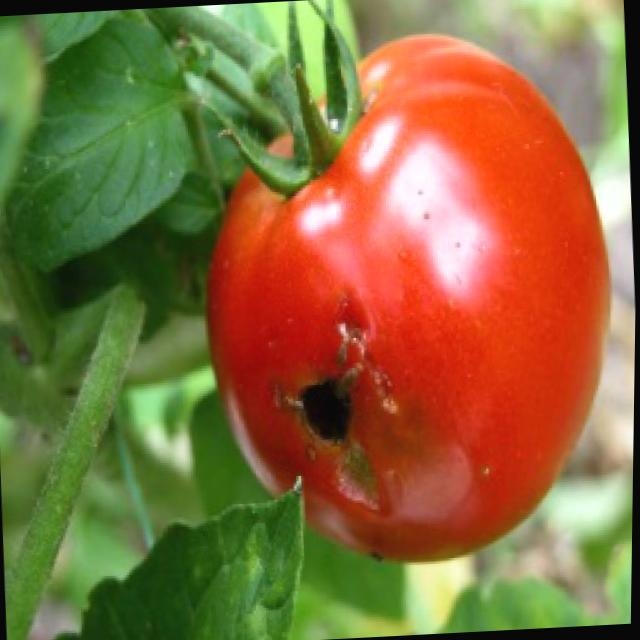tomato: (188, 26, 625, 576)
